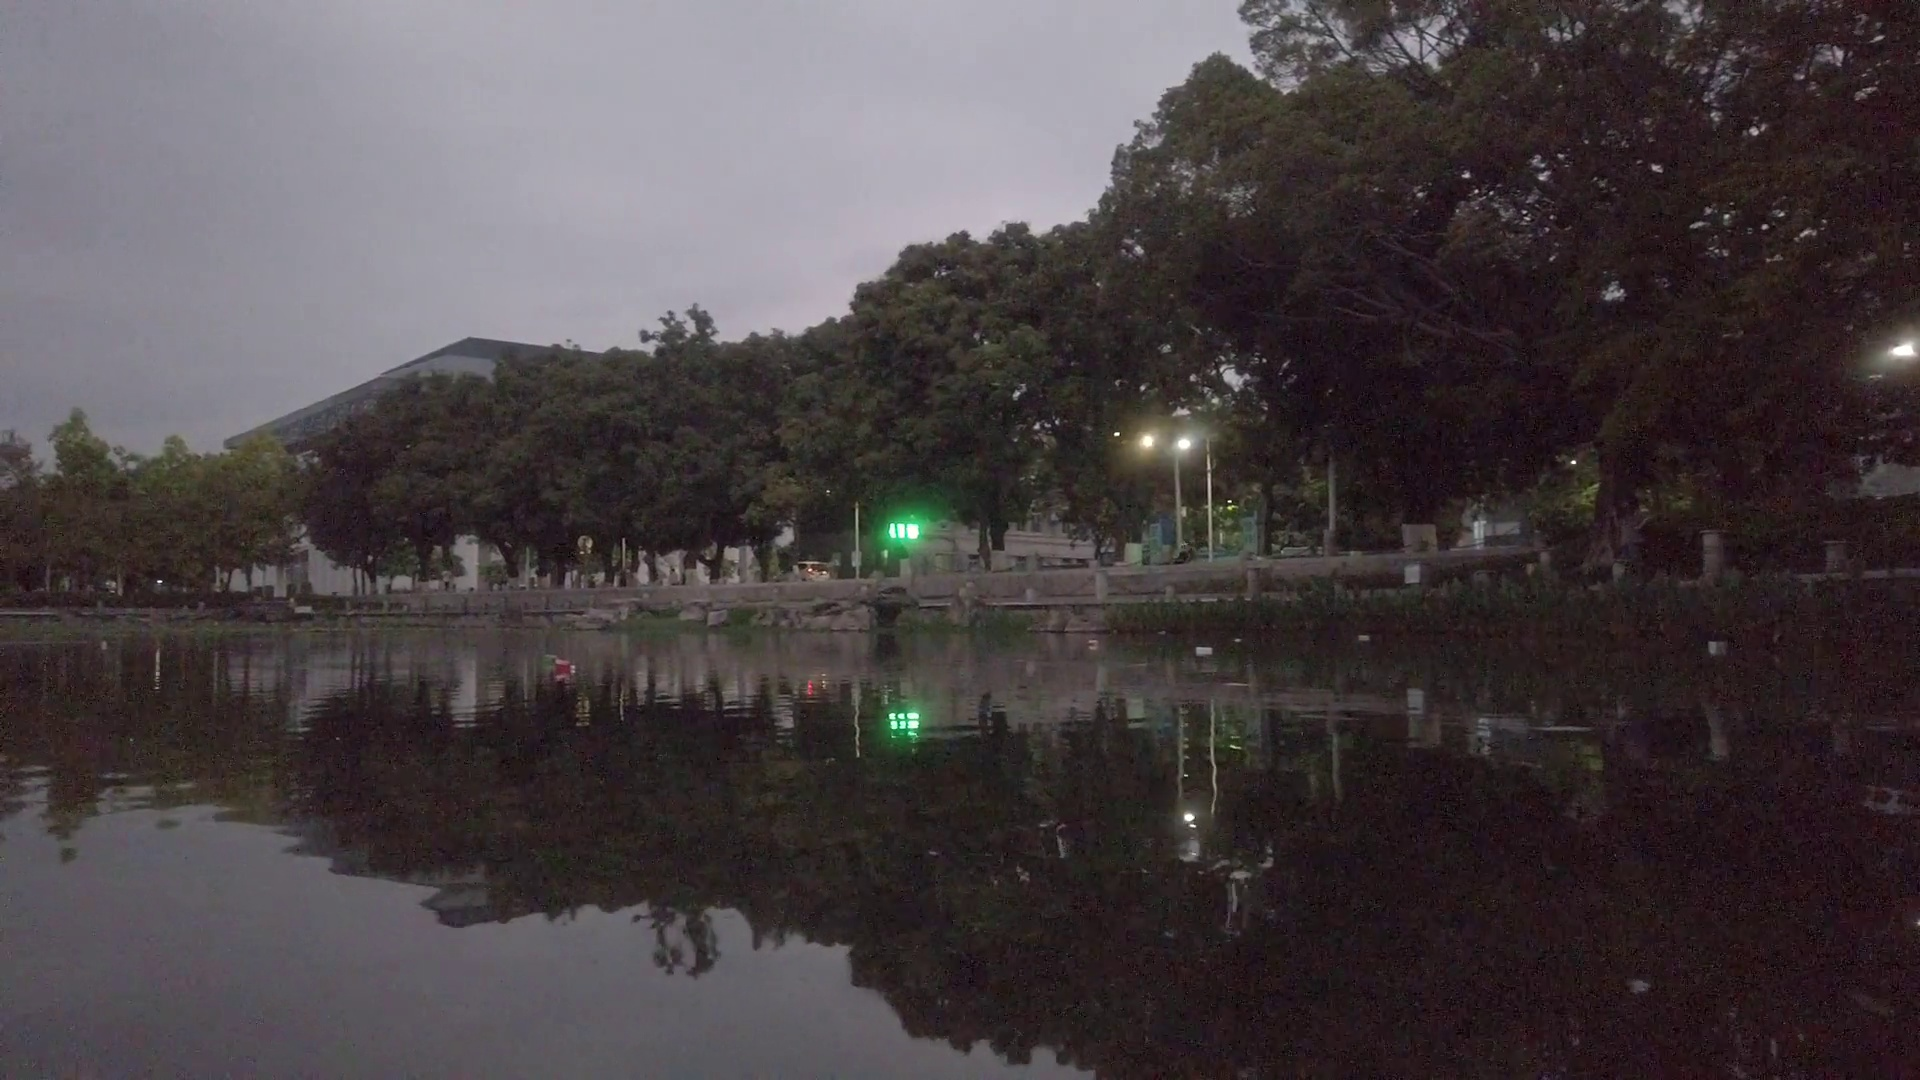bottle: (553, 659, 576, 674), (1089, 640, 1100, 647)
carton: (1700, 637, 1733, 661), (1195, 645, 1213, 655), (1360, 632, 1371, 642)
